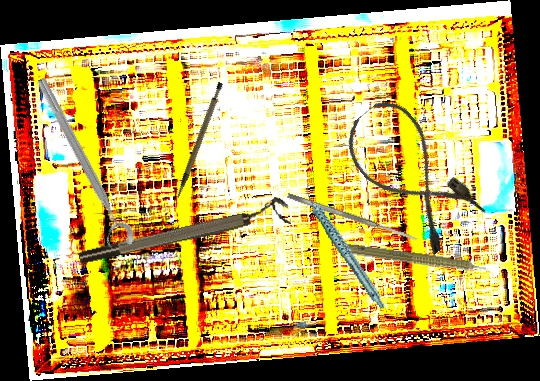Cannula: (333, 91, 489, 258)
Fixation Ring: (22, 74, 138, 255), (75, 194, 292, 269)
Handpiece: (301, 172, 387, 321), (339, 240, 497, 281)
Scalpel Handle: (157, 80, 239, 200)
Spatula Surgical: (286, 191, 419, 244)
